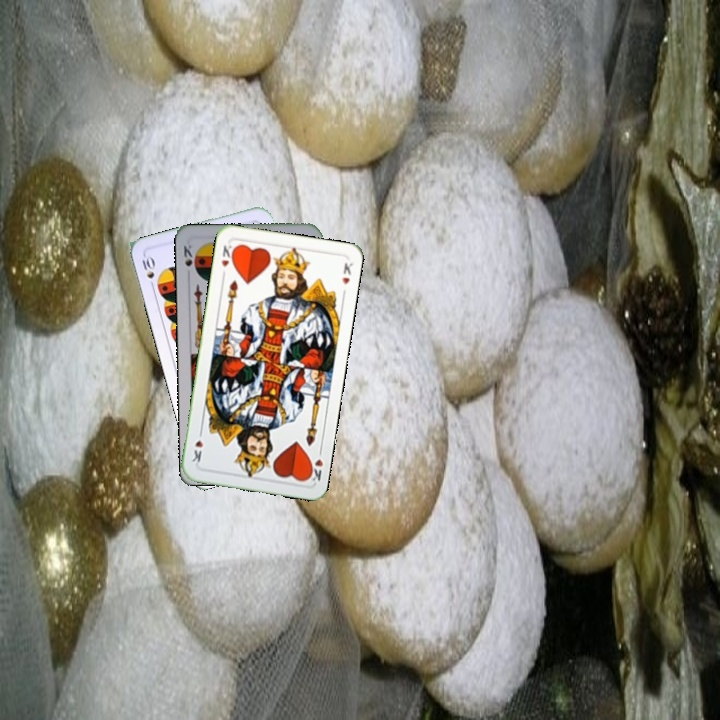HK: (304, 444, 326, 484), (217, 241, 238, 280)
S10: (138, 252, 157, 292)
SK: (180, 241, 196, 269)
